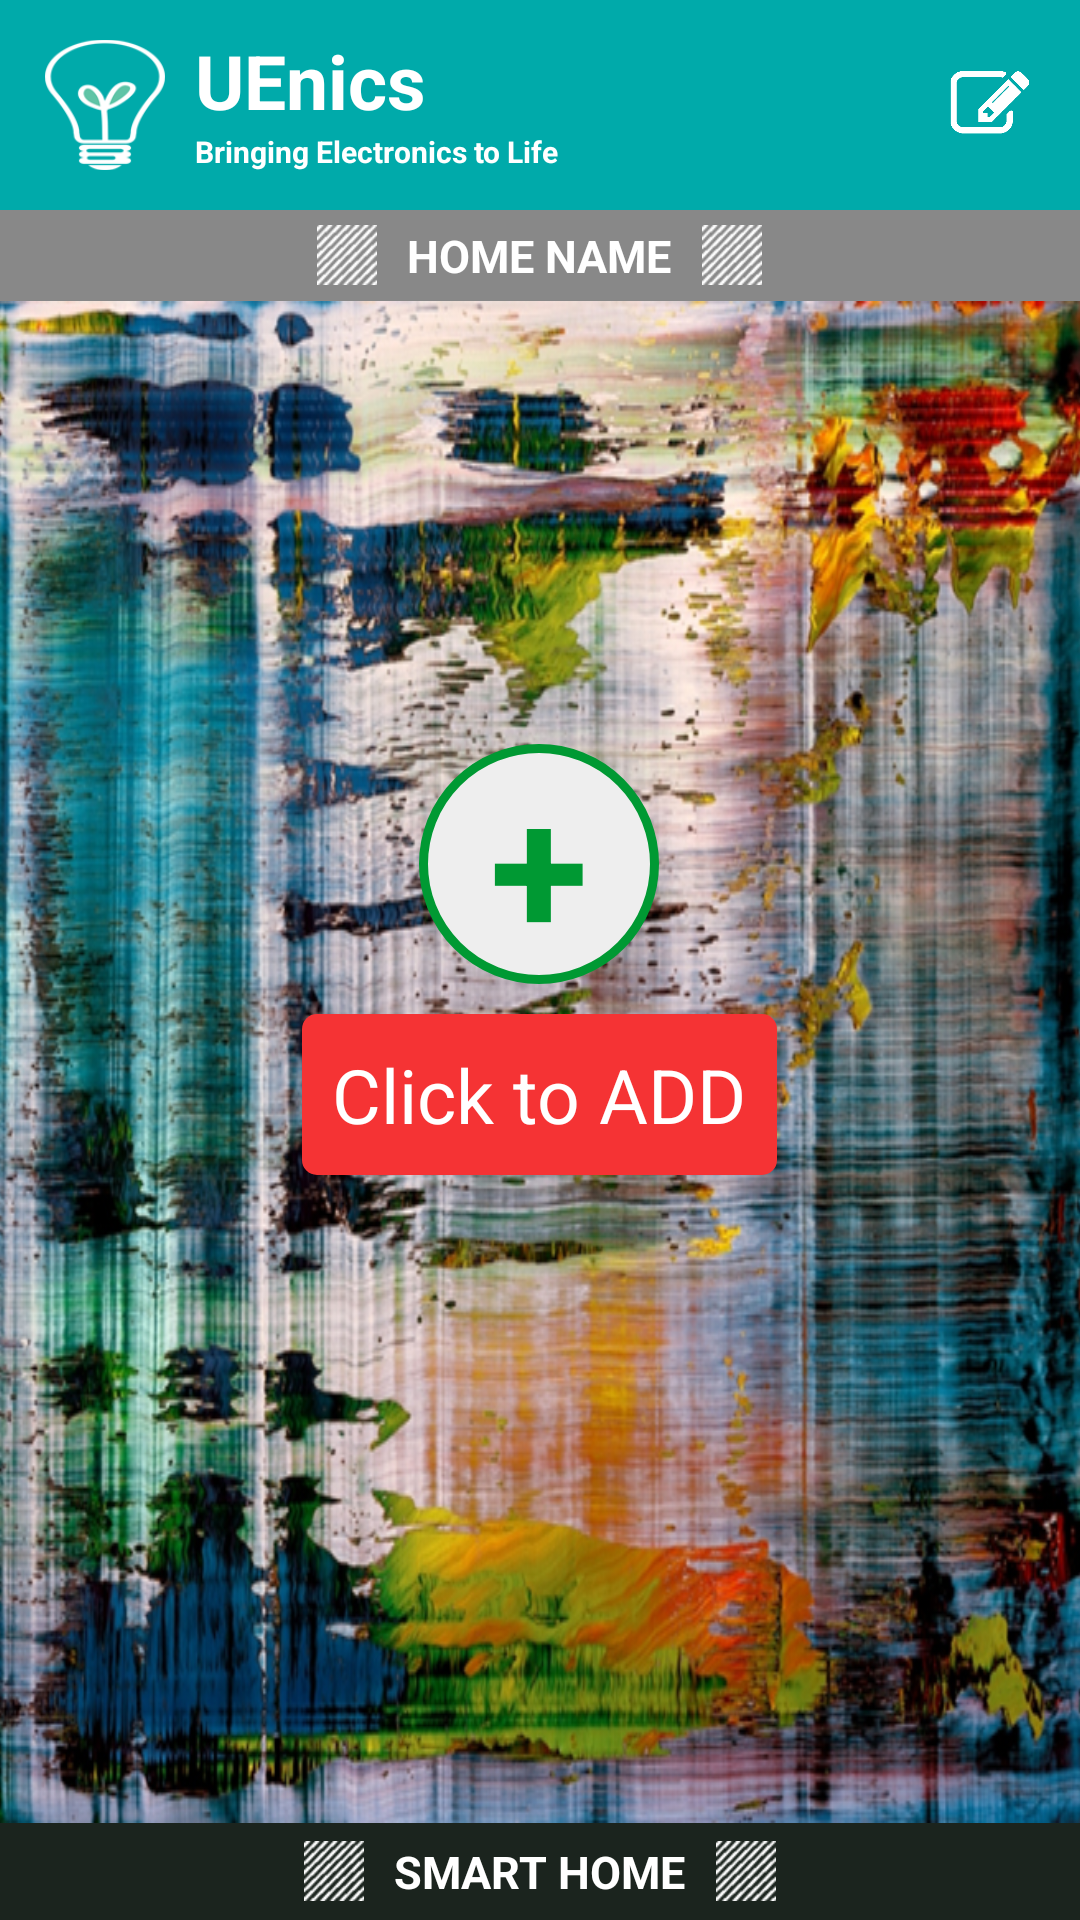

Icon bounding boxes for this 1080 × 1920 phone screenshot, format (x1, y1, x2, y2):
edit: (950, 71, 1029, 134)
